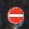No entry: (6, 6, 24, 24)
